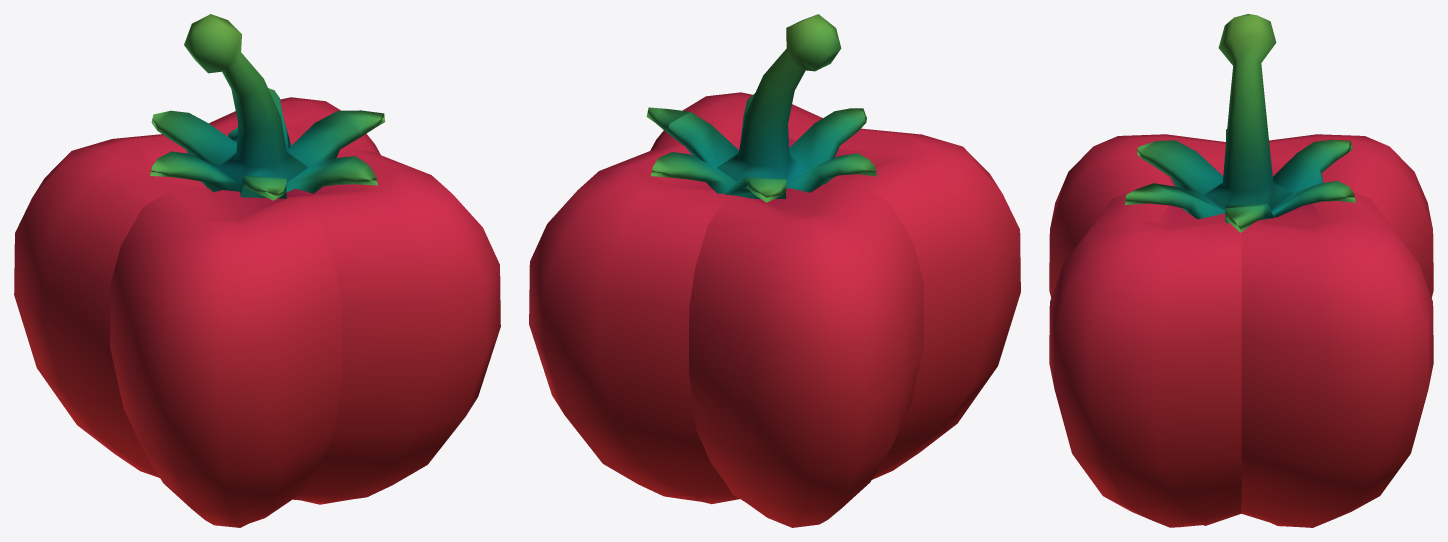
File: pepper_001.fbx
3 views of the same model, side by side, from view 1: azimuth 30°, elevation 25°; view 2: azimuth 150°, elevation 25°; view 3: azimuth 270°, elevation 25° (orthographic). The views are drawn at different scales.
Visible parts, largest first — view 1: pepper_001; view 2: pepper_001; view 3: pepper_001.
Boxes of the visible parts, x1,y1,x2,y2 form: pepper_001: (14, 14, 500, 527); pepper_001: (529, 14, 1020, 527); pepper_001: (1049, 14, 1433, 527).
Size of the model in its own units: 9.1 by 9.1 by 12.2.
